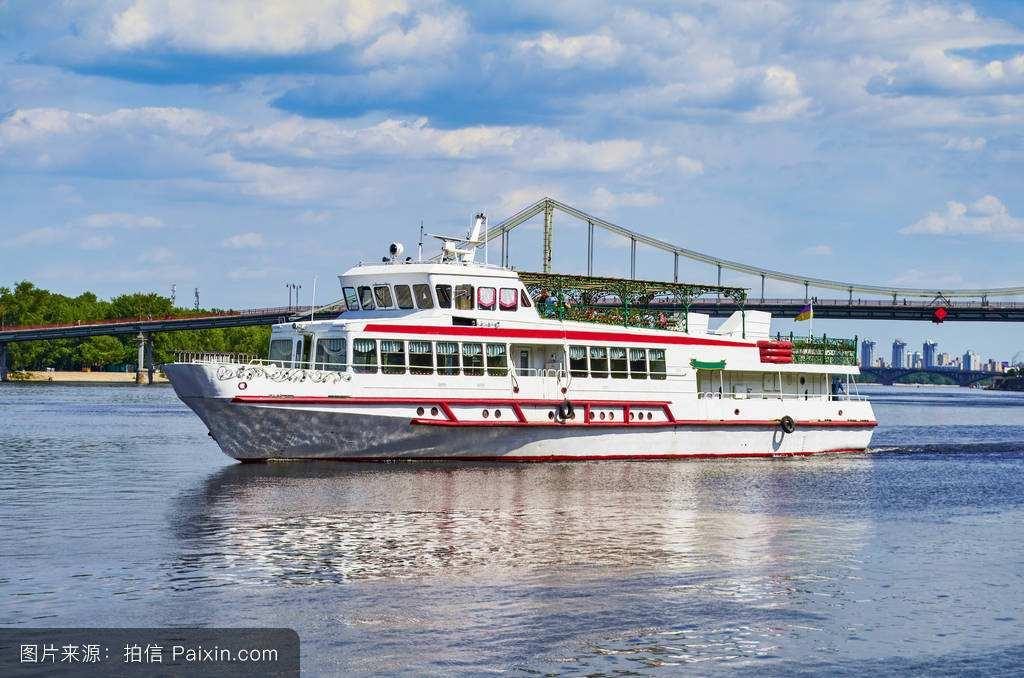otherboat: (148, 236, 890, 475)
